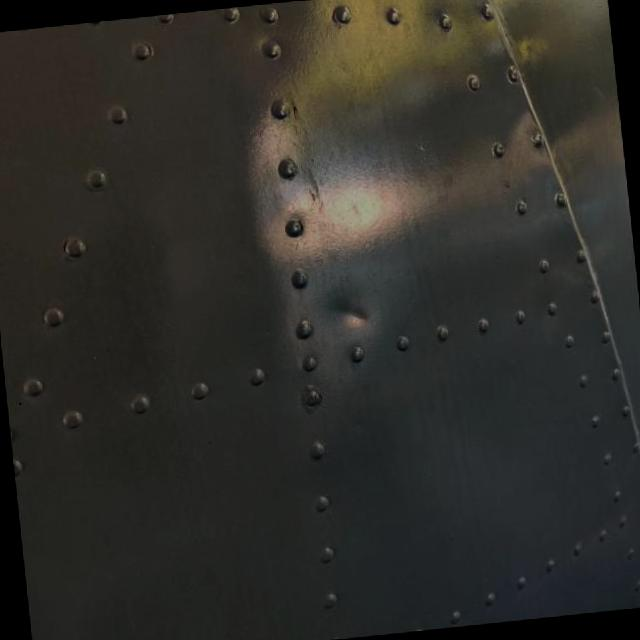dent: (313, 270, 398, 350)
